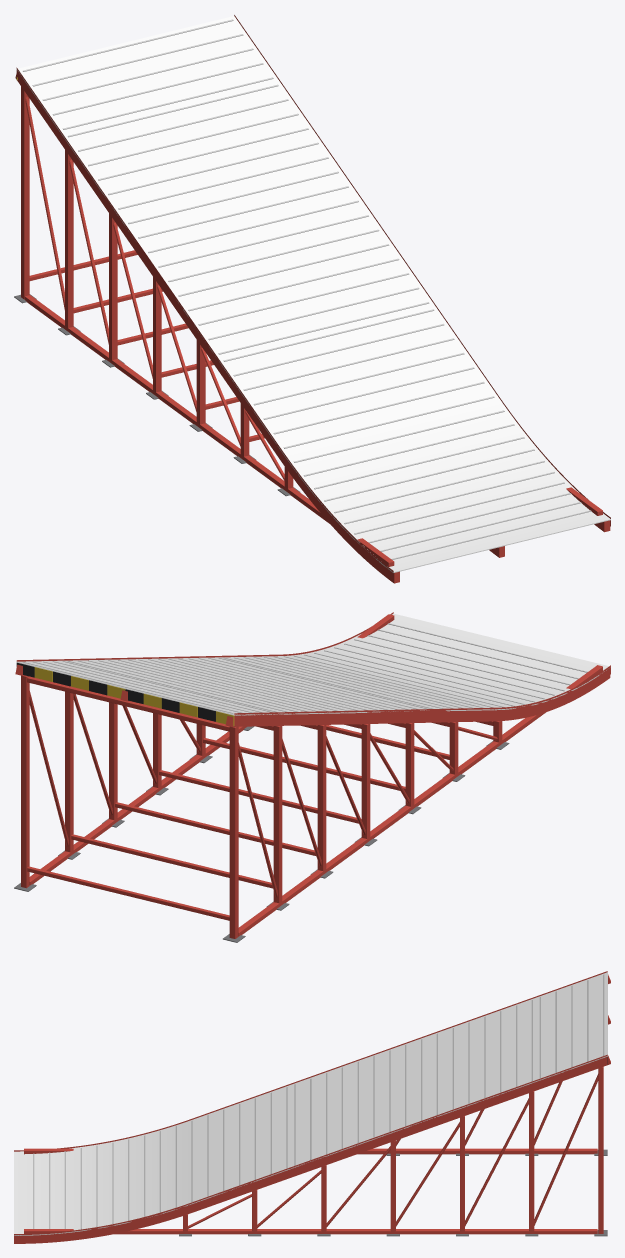
Rendered from ramp_huge.glb.
3 views of the same model, one above another, from view 1: azimuth 30°, elevation 25°; view 2: azimuth 150°, elevation 25°; view 3: azimuth 270°, elevation 25° (orthographic). The views are drawn at different scales.
Parts seen in each view (by area): view 1: SM_ramp_huge; view 2: SM_ramp_huge; view 3: SM_ramp_huge.
Part boxes in pixels (bbox=[...]): SM_ramp_huge: bbox=[14, 15, 610, 583]; SM_ramp_huge: bbox=[14, 612, 610, 942]; SM_ramp_huge: bbox=[14, 971, 610, 1243].
Bounding box in the file's own units: 3.08 × 3.17 × 9.05.
